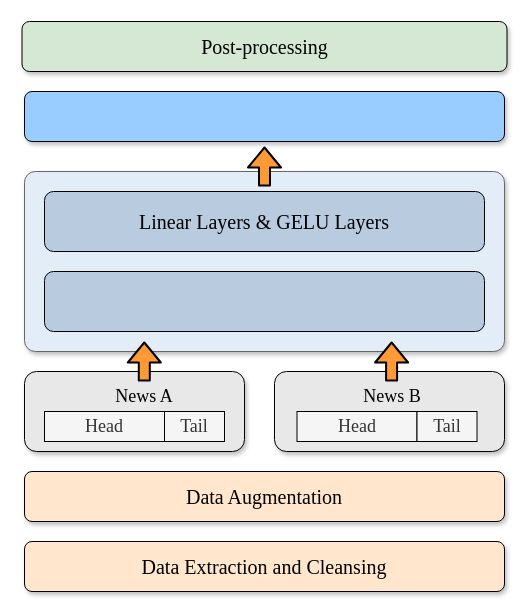
This 530x616 diagram has some shape labels left out. Here are the shapes that lost their labels. From the top down, the centre of each, then its label:
the point at 265,117: Multi-label Loss + Adapted R-Drop Loss
the point at 264,301: XLM-RoBERTa
